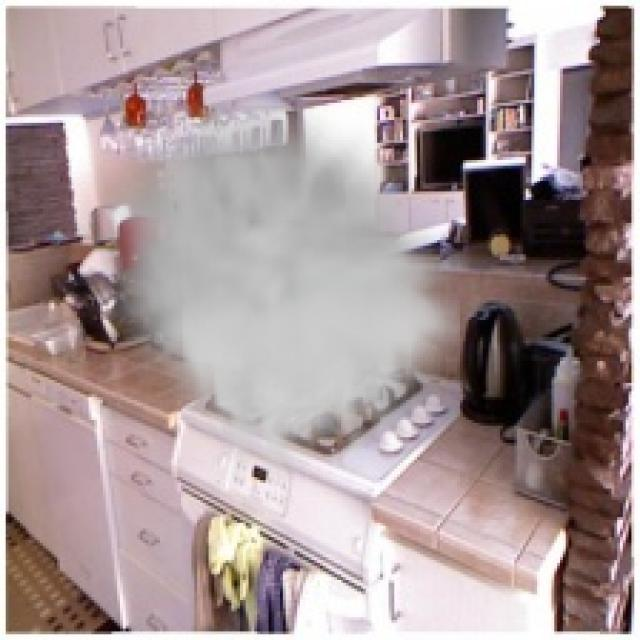smoke: (100, 83, 460, 483)
